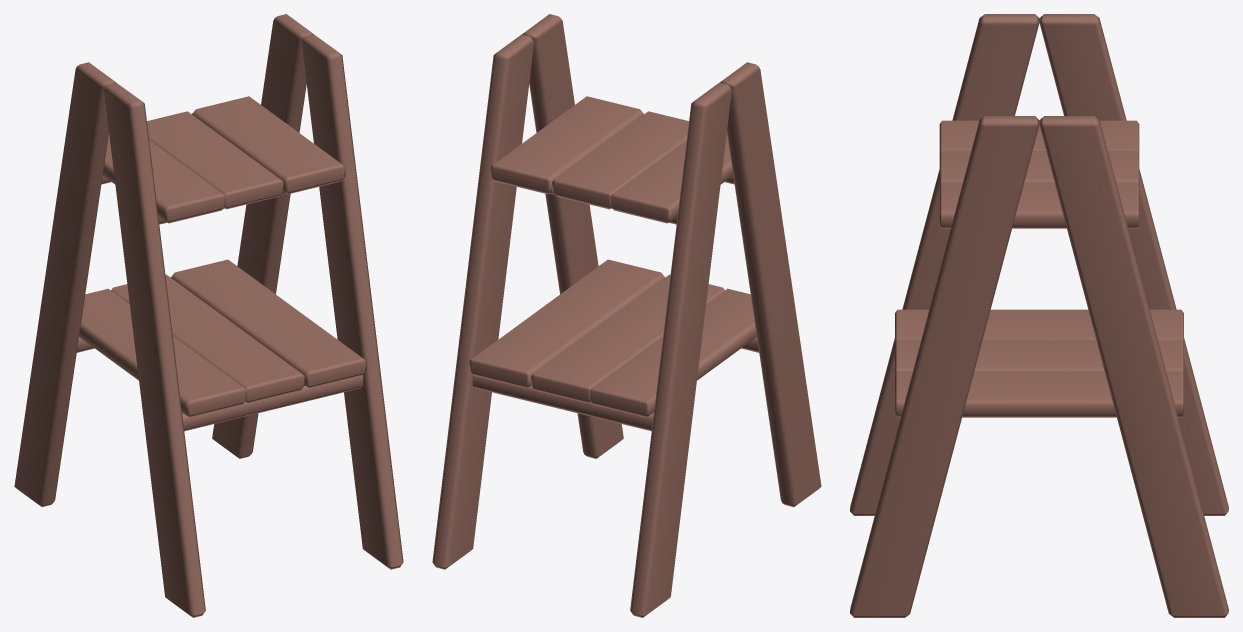
Rendered from Farm_13_Ladder_1.glb.
3 renders of one model, left to right at view 1: azimuth 30°, elevation 25°; view 2: azimuth 150°, elevation 25°; view 3: azimuth 270°, elevation 25°, orthographic. The views are drawn at different scales.
Parts seen in each view (by area): view 1: Farm_13_Ladder_1; view 2: Farm_13_Ladder_1; view 3: Farm_13_Ladder_1.
Part boxes in pixels (<box>): Farm_13_Ladder_1: <box>14,14,403,617</box>; Farm_13_Ladder_1: <box>432,14,821,617</box>; Farm_13_Ladder_1: <box>850,14,1228,617</box>.
Bounding box in the file's own units: 0.8 × 1.68 × 1.16.
1 material, 1 textured.
